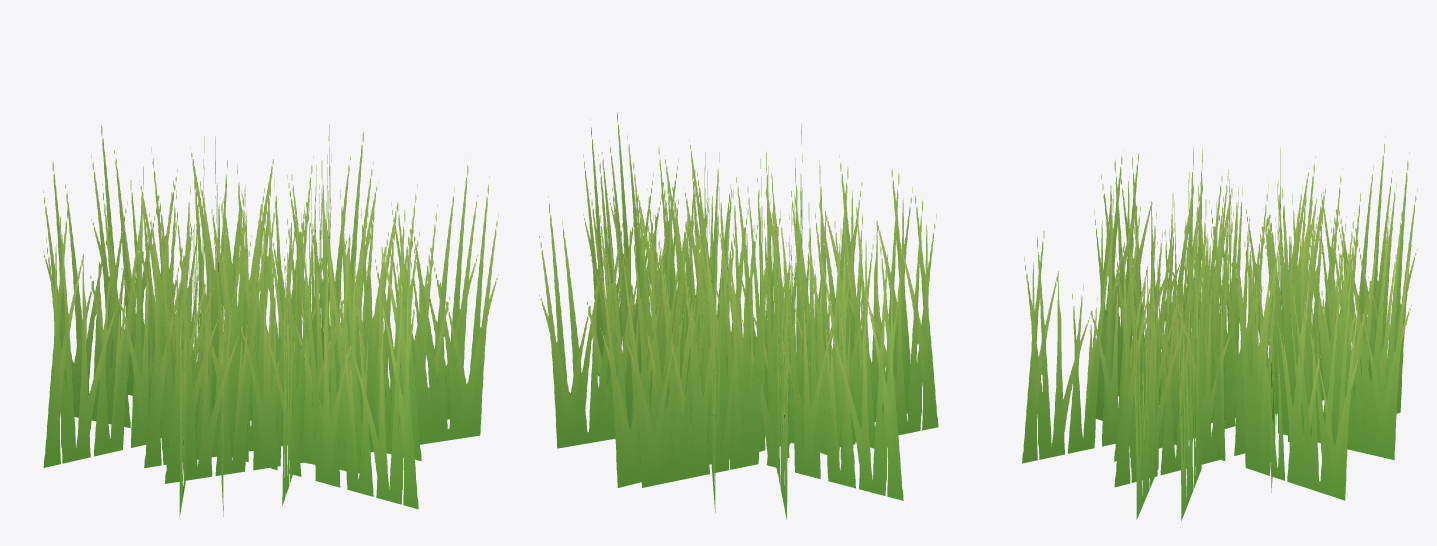
File: plant_grass_tall.glb
3 views of the same model, side by side, from view 1: azimuth 30°, elevation 25°; view 2: azimuth 150°, elevation 25°; view 3: azimuth 270°, elevation 25° (orthographic). The views are drawn at different scales.
Visible parts, largest first — view 1: grass_tall_grass_tall; view 2: grass_tall_grass_tall; view 3: grass_tall_grass_tall.
Part boxes in pixels (x1,y1,x2,y2): grass_tall_grass_tall: [43, 124, 498, 516]; grass_tall_grass_tall: [539, 112, 938, 519]; grass_tall_grass_tall: [1022, 135, 1417, 520].
Size of the model in its own units: 1.6 by 1.26 by 1.5.
1 material, 1 textured.
